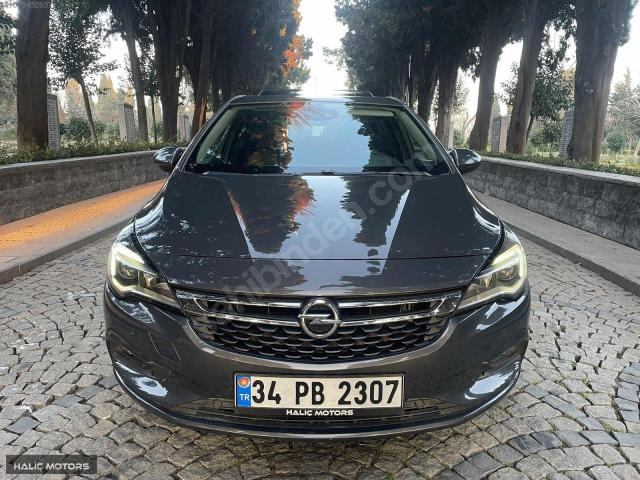plaka: (236, 374, 404, 409)
